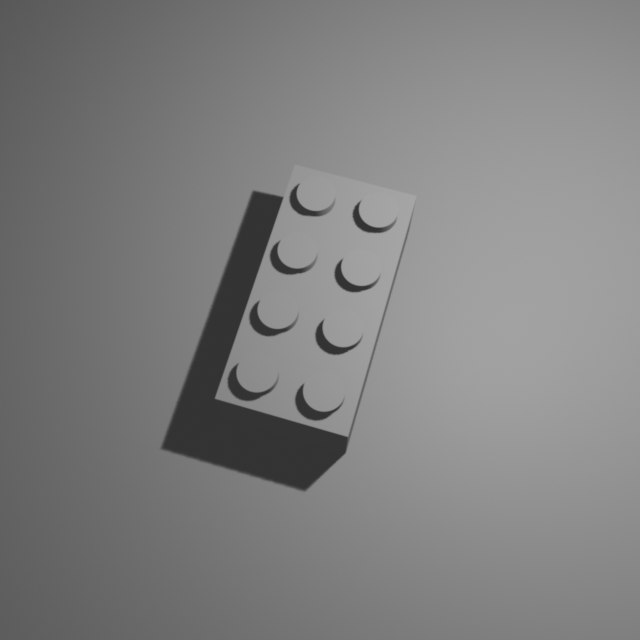lego_2x4: (213, 158, 418, 453)
